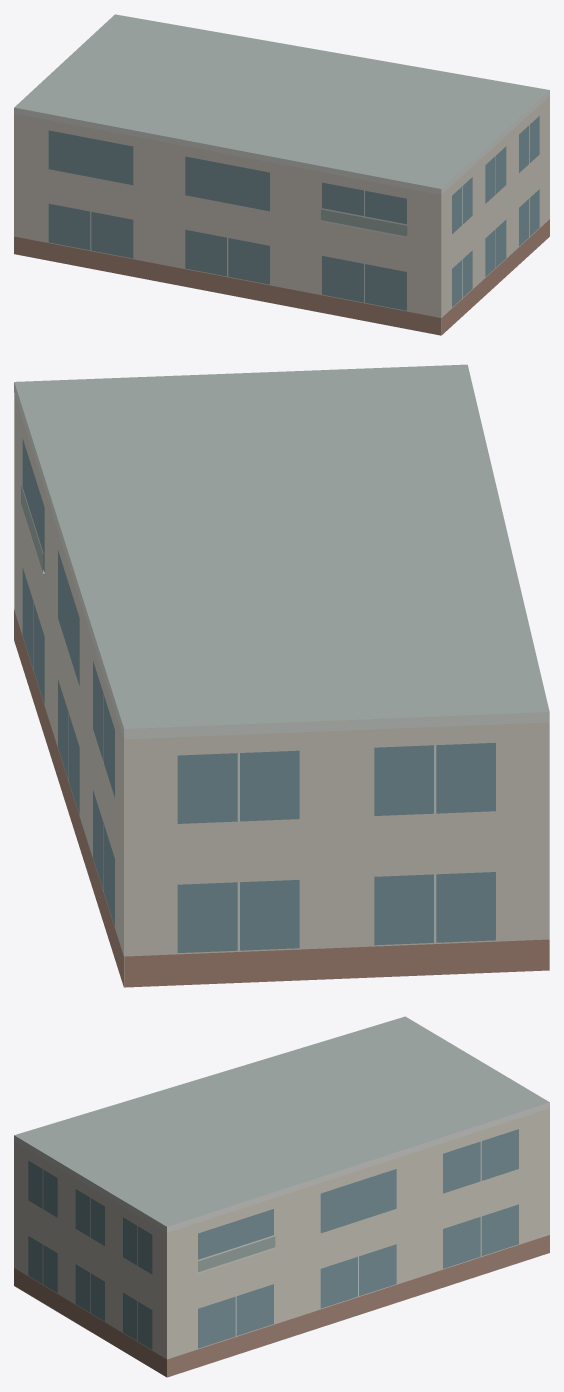
Rendered from survey-upis-32802293.glb.
3 views of the same model, one above another, from view 1: azimuth 30°, elevation 25°; view 2: azimuth 150°, elevation 25°; view 3: azimuth 270°, elevation 25° (orthographic). The views are drawn at different scales.
Visible parts, largest first — view 1: survey-upis-32802293.tmp; view 2: survey-upis-32802293.tmp; view 3: survey-upis-32802293.tmp.
Boxes of the visible parts, bbox=[...] form: survey-upis-32802293.tmp: bbox=[14, 14, 549, 335]; survey-upis-32802293.tmp: bbox=[14, 364, 549, 987]; survey-upis-32802293.tmp: bbox=[14, 1016, 549, 1377].
Bounding box in the file's own units: 18.29 × 6.1 × 19.68.
